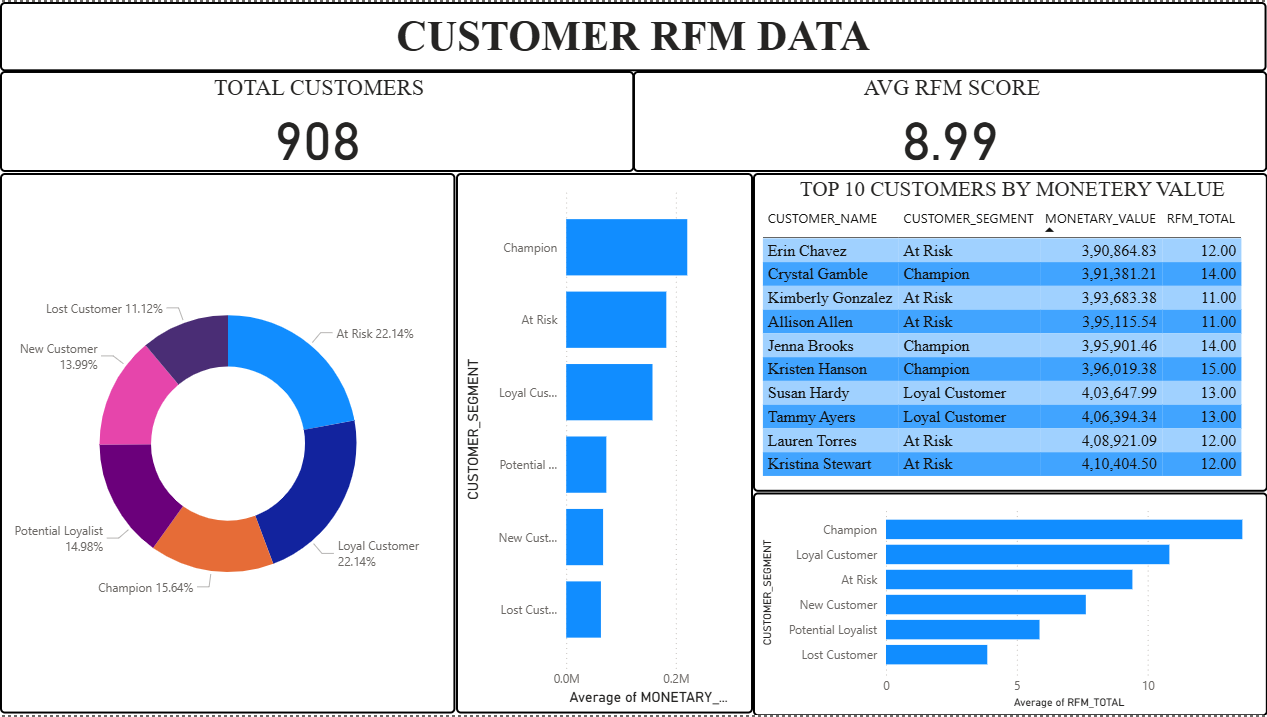

The page's visual inventory and layout, read from the dashboard file:
{"tool":"powerbi","page":{"name":"Customer RFM","canvas":[1280,720],"ordinal":2},"visuals":[{"type":"group","id":"g1","title":"Group 3","box":[0,0,1279.4,172],"z":0},{"type":"group","id":"g2","title":"Group 1","box":[0,69.9,1279.4,102],"z":0,"group":"g1"},{"type":"card","title":"TOTAL CUSTOMERS","fields":{"Values":["Count(MART_CUSTOMER_RFM.CC_NUM_TOKEN)"]},"box":[0,69.9,640.6,102],"z":0,"group":"g3"},{"type":"donutChart","fields":{"Category":["MART_CUSTOMER_RFM.CUSTOMER_SEGMENT"],"Y":["CountNonNull(MART_CUSTOMER_RFM.CC_NUM_TOKEN)"]},"box":[0,172,460,546],"z":0,"group":"g4"},{"type":"group","id":"g3","title":"Group 2","box":[0,69.9,1279.4,102],"z":6,"group":"g2"},{"type":"textbox","box":[0,0,1279.3,70.2],"z":1000,"group":"g1"},{"type":"card","title":"AVG RFM SCORE","fields":{"Values":["Avg(MART_CUSTOMER_RFM.RFM_TOTAL)"]},"box":[638.7,69.9,640.6,102],"z":1000,"group":"g3"},{"type":"group","id":"g4","title":"Group 4","box":[0,172,1280,548],"z":1000},{"type":"clusteredBarChart","fields":{"Category":["MART_CUSTOMER_RFM.CUSTOMER_SEGMENT"],"Y":["Avg(MART_CUSTOMER_RFM.RFM_TOTAL)"]},"box":[760,494,520,226],"z":1000,"group":"g5"},{"type":"group","id":"g5","title":"Group 5","box":[460,172,820,548],"z":1001,"group":"g4"},{"type":"clusteredBarChart","fields":{"Category":["MART_CUSTOMER_RFM.CUSTOMER_SEGMENT"],"Y":["Avg(MART_CUSTOMER_RFM.MONETARY_VALUE)"]},"box":[460,172,300,546],"z":2000,"group":"g5"},{"type":"tableEx","title":"TOP 10 CUSTOMERS BY MONETERY VALUE","fields":{"Values":["MART_CUSTOMER_RFM.CUSTOMER_NAME","MART_CUSTOMER_RFM.CUSTOMER_SEGMENT","MART_CUSTOMER_RFM.MONETARY_VALUE","MART_CUSTOMER_RFM.RFM_TOTAL"]},"box":[760,172,520,322],"z":2000}]}

Visuals, with their boxes in screenshot pixels (x1, y1, x2, y2), scaled from the page's 1280x720 canvas onto the 1267x717 screenshot:
"Group 3" group: [0,0,1266,171]
"Group 1" group: [0,70,1266,171]
"TOTAL CUSTOMERS" card: [0,70,634,171]
donutChart - MART_CUSTOMER_RFM.CUSTOMER_SEGMENT x CountNonNull(MART_CUSTOMER_RFM.CC_NUM_TOKEN): [0,171,455,715]
"Group 2" group: [0,70,1266,171]
textbox: [0,0,1266,70]
"AVG RFM SCORE" card: [632,70,1266,171]
"Group 4" group: [0,171,1266,716]
clusteredBarChart - MART_CUSTOMER_RFM.CUSTOMER_SEGMENT x Avg(MART_CUSTOMER_RFM.RFM_TOTAL): [752,492,1266,716]
"Group 5" group: [455,171,1266,716]
clusteredBarChart - MART_CUSTOMER_RFM.CUSTOMER_SEGMENT x Avg(MART_CUSTOMER_RFM.MONETARY_VALUE): [455,171,752,715]
"TOP 10 CUSTOMERS BY MONETERY VALUE" tableEx: [752,171,1266,492]
